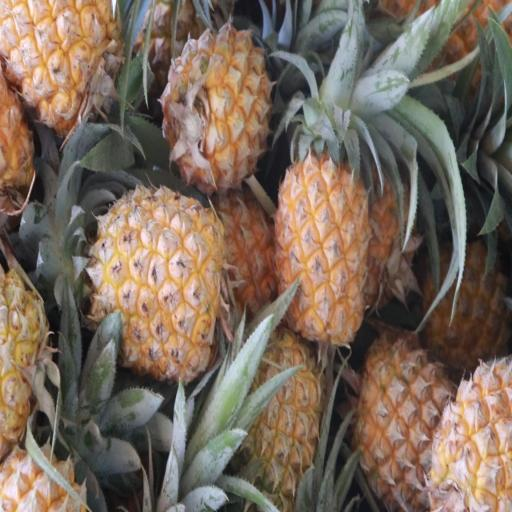------------------------------: (357, 341, 460, 498)
Pineapple - v8 v1: (95, 189, 224, 378), (274, 148, 370, 344), (166, 28, 269, 187), (3, 0, 120, 128), (239, 336, 324, 494), (423, 238, 505, 363)
